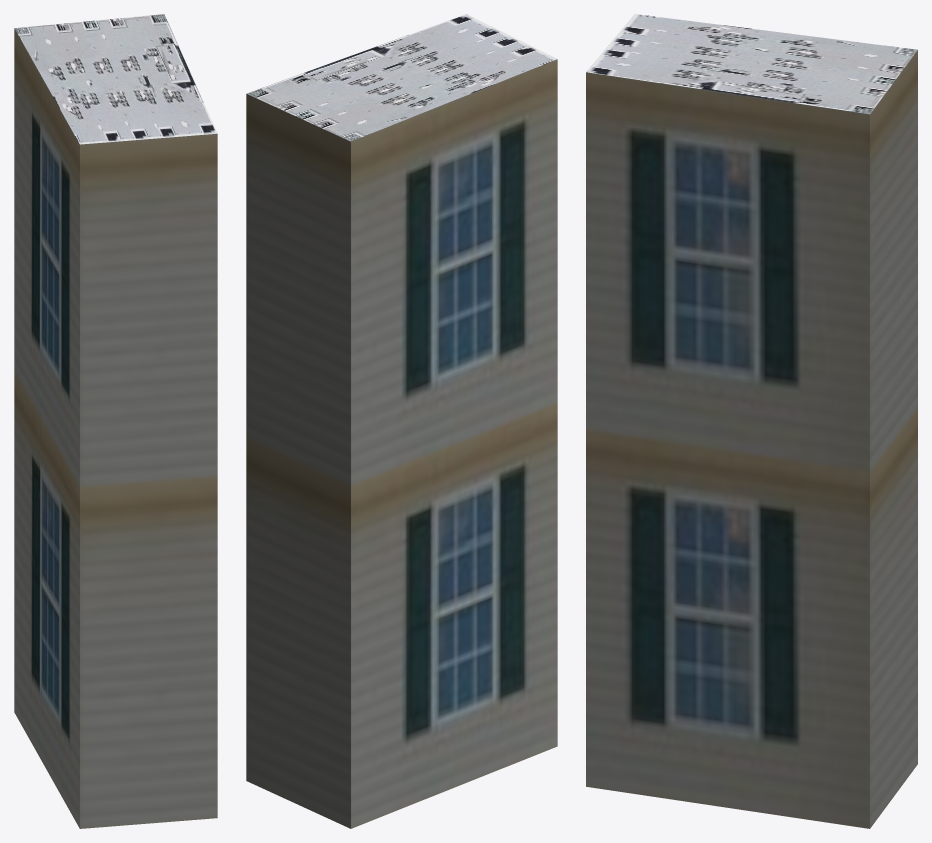
The model's file is ResTex__4187.fbx.
The picture shows the model from 3 angles, left to right: view 1: azimuth 30°, elevation 25°; view 2: azimuth 150°, elevation 25°; view 3: azimuth 270°, elevation 25°; orthographic projection. The views are drawn at different scales.
Parts seen in each view (by area): view 1: CityEngineMaterial_7_m, CityEngineMaterial_4_m; view 2: CityEngineMaterial_7_m, CityEngineMaterial_4_m; view 3: CityEngineMaterial_7_m, CityEngineMaterial_4_m.
Part boxes in pixels (left/top/right/bottom): CityEngineMaterial_7_m: left=14, top=28, right=217, bottom=828; CityEngineMaterial_4_m: left=14, top=14, right=217, bottom=144; CityEngineMaterial_7_m: left=246, top=59, right=557, bottom=828; CityEngineMaterial_4_m: left=247, top=14, right=557, bottom=141; CityEngineMaterial_7_m: left=586, top=50, right=917, bottom=828; CityEngineMaterial_4_m: left=586, top=14, right=917, bottom=114.
Size of the model in its own units: 1.81 by 6 by 2.53.
2 materials, 2 textured.
